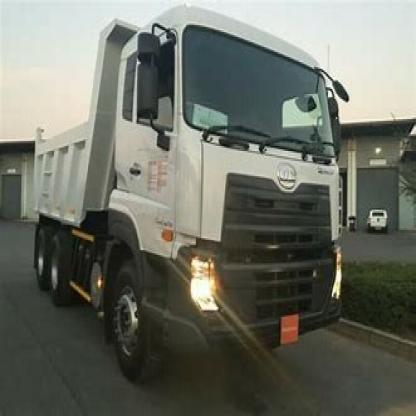dump_truck: (20, 6, 352, 380)
